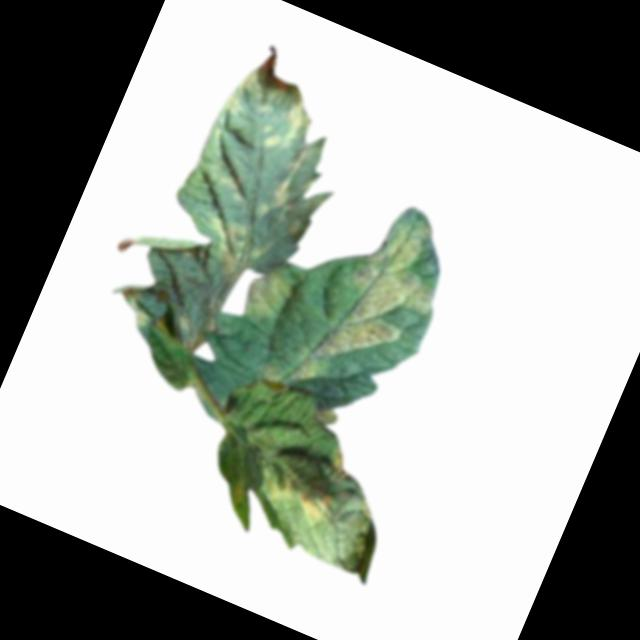Leaf_Mold: (286, 197, 461, 421), (211, 67, 312, 158), (261, 144, 330, 239), (251, 459, 338, 528), (190, 208, 259, 284), (233, 255, 298, 326), (322, 443, 359, 482), (254, 359, 292, 394), (223, 473, 251, 508)
